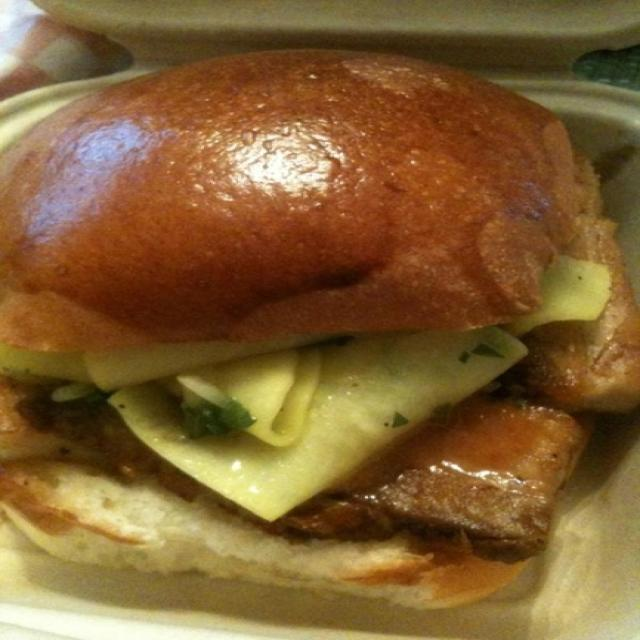牛肉菜式: (8, 53, 631, 616)
